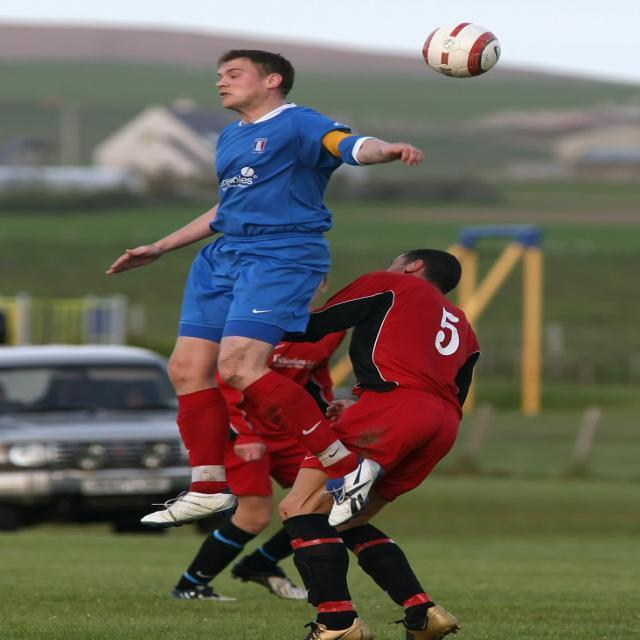football: (423, 18, 504, 91)
